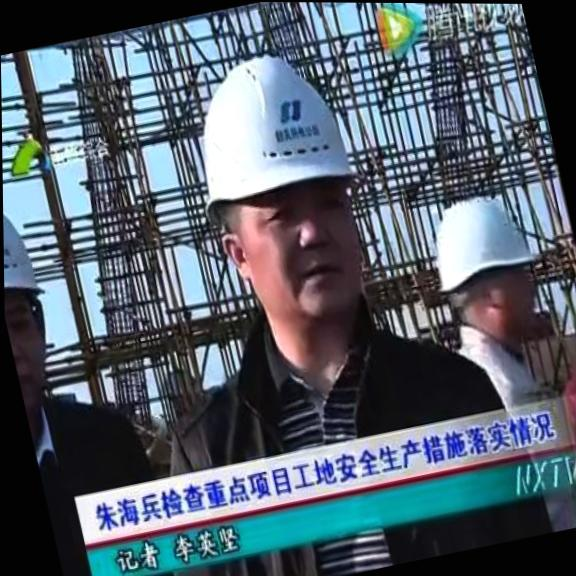no_safety_vest: (108, 259, 565, 576), (23, 373, 201, 576), (433, 300, 576, 546)
